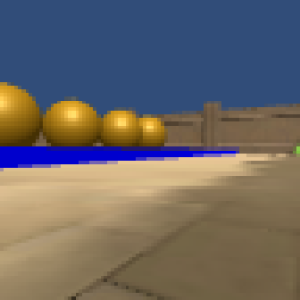goodGoal: (291, 144, 300, 160)
goodGoalMulti: (1, 83, 42, 146), (45, 99, 97, 147), (101, 112, 140, 146), (142, 115, 170, 150)
platform: (1, 146, 253, 170)
